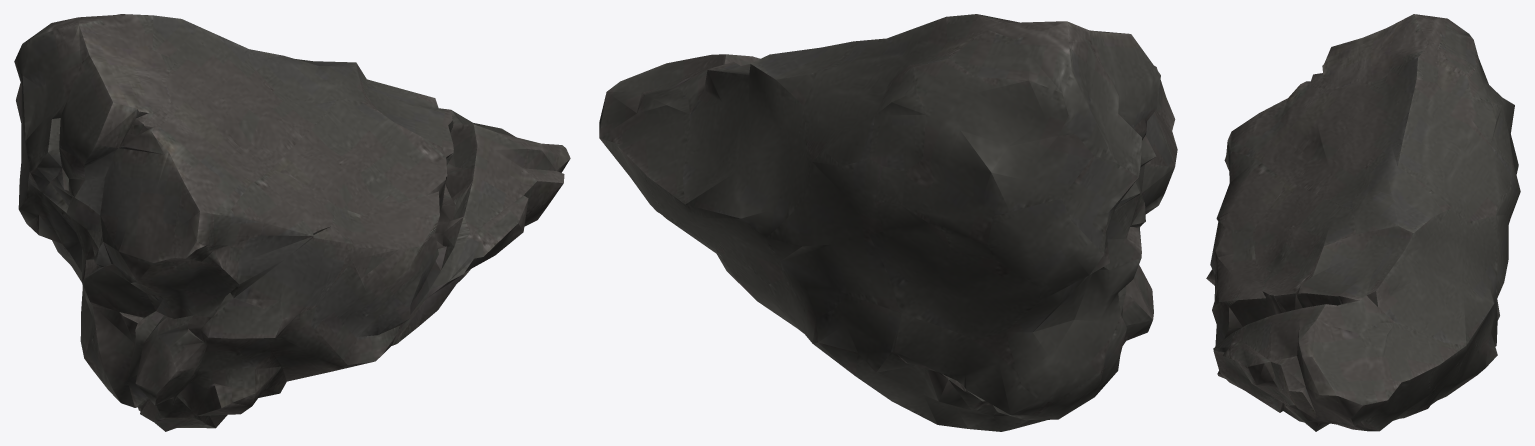
The model's file is carbonaceous_asteroid_04_angular_lod1.glb.
The picture shows the model from 3 angles, left to right: view 1: azimuth 30°, elevation 25°; view 2: azimuth 150°, elevation 25°; view 3: azimuth 270°, elevation 25°; orthographic projection. The views are drawn at different scales.
Parts seen in each view (by area): view 1: mesh_node; view 2: mesh_node; view 3: mesh_node.
Part boxes in pixels (box(x1,y1,x2,y2)): mesh_node: box(14, 14, 570, 431); mesh_node: box(599, 14, 1177, 431); mesh_node: box(1206, 14, 1520, 431).
Bounding box in the file's own units: 2 × 1.49 × 1.19.
1 material, 1 textured.
